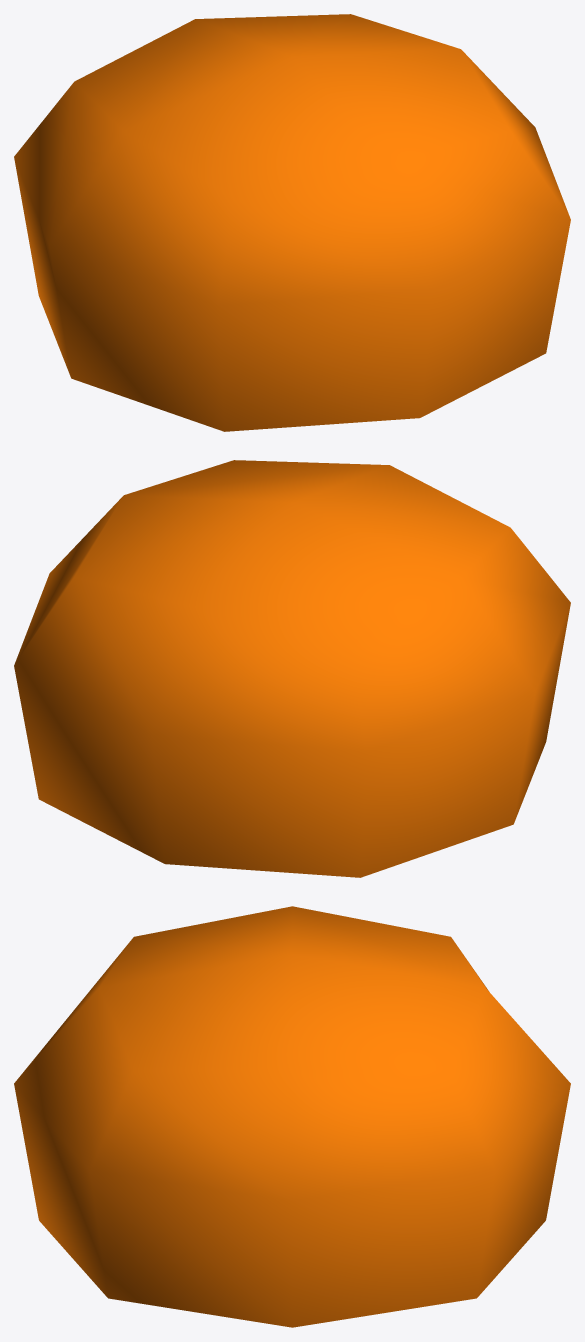
Rendered from CactusFlower_3.fbx.
3 views of the same model, one above another, from view 1: azimuth 30°, elevation 25°; view 2: azimuth 150°, elevation 25°; view 3: azimuth 270°, elevation 25° (orthographic).
Visible parts, largest first — view 1: CactusFlower_3; view 2: CactusFlower_3; view 3: CactusFlower_3.
Boxes of the visible parts, x1,y1,x2,y2 form: CactusFlower_3: (14, 14, 570, 431); CactusFlower_3: (14, 460, 570, 877); CactusFlower_3: (14, 906, 570, 1327).
Bounding box in the file's own units: 19.65 × 10.34 × 19.65.
